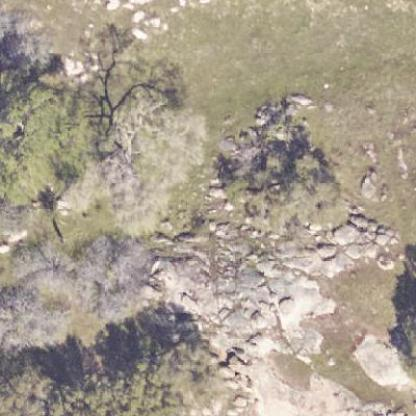tree-top: (0, 42, 97, 215), (93, 94, 214, 230), (231, 141, 365, 240), (118, 323, 237, 414)
